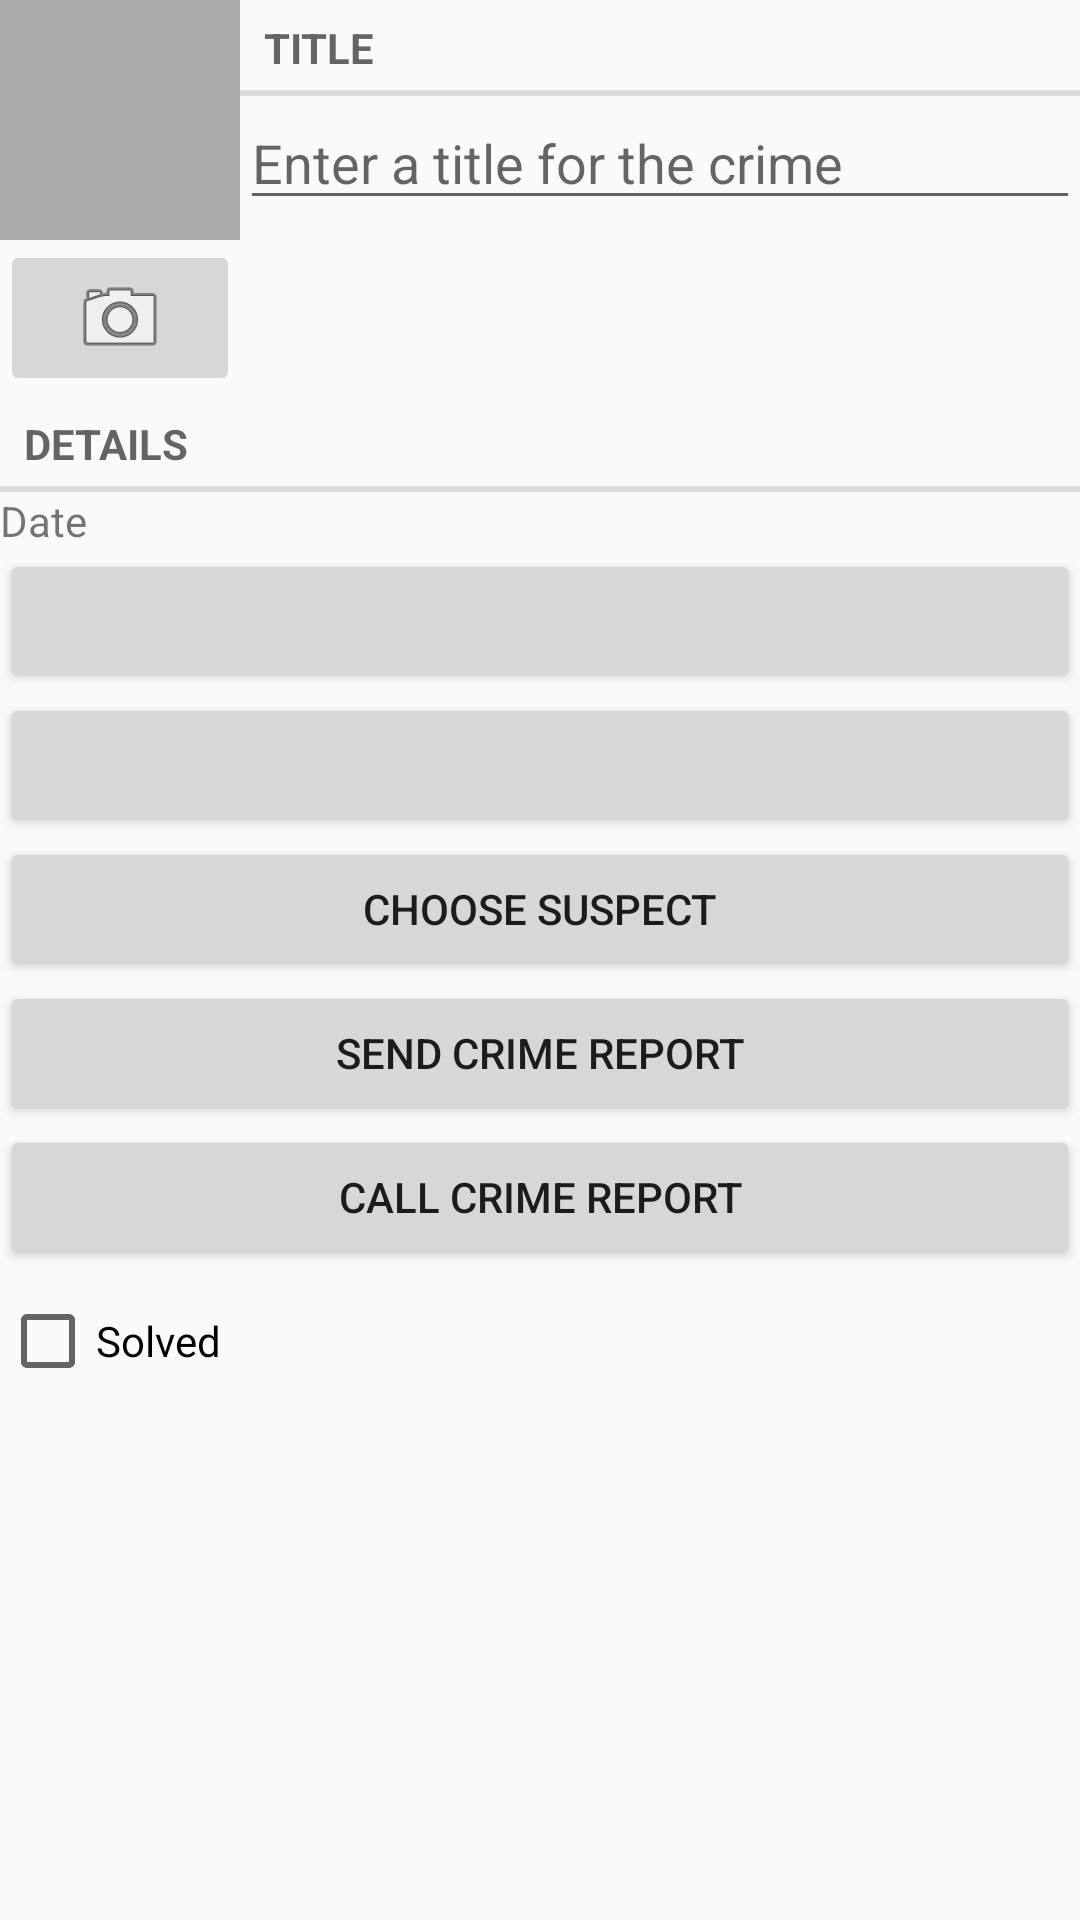

Screen size 1080px x 1920px. Icon name, then its box in pixels as rect(x1, y1, x2, y2):
Take photo of crime scene: rect(12, 258, 228, 378)
